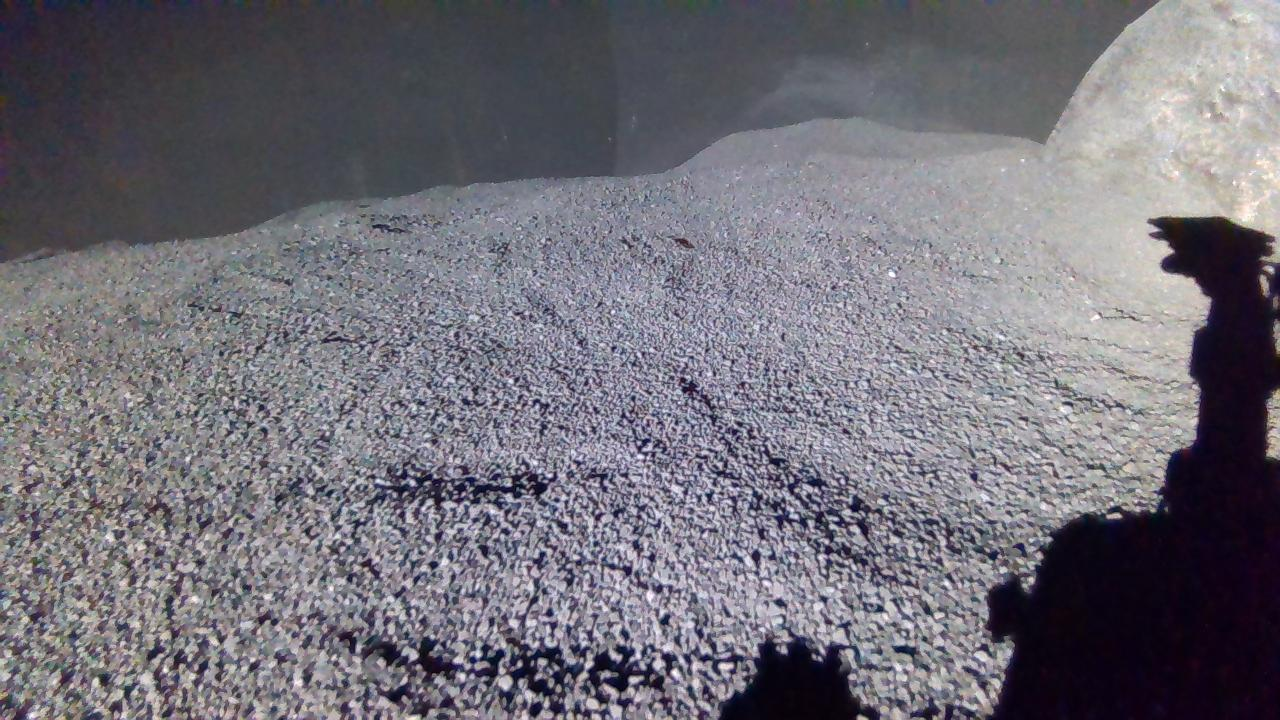rock: (1045, 0, 1280, 230)
